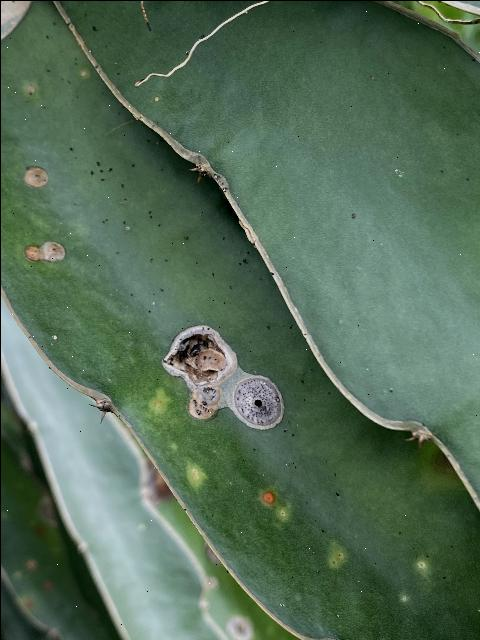stemcanker: (163, 322, 238, 390), (231, 373, 285, 432), (188, 373, 226, 422), (22, 241, 65, 264), (26, 166, 55, 190)
